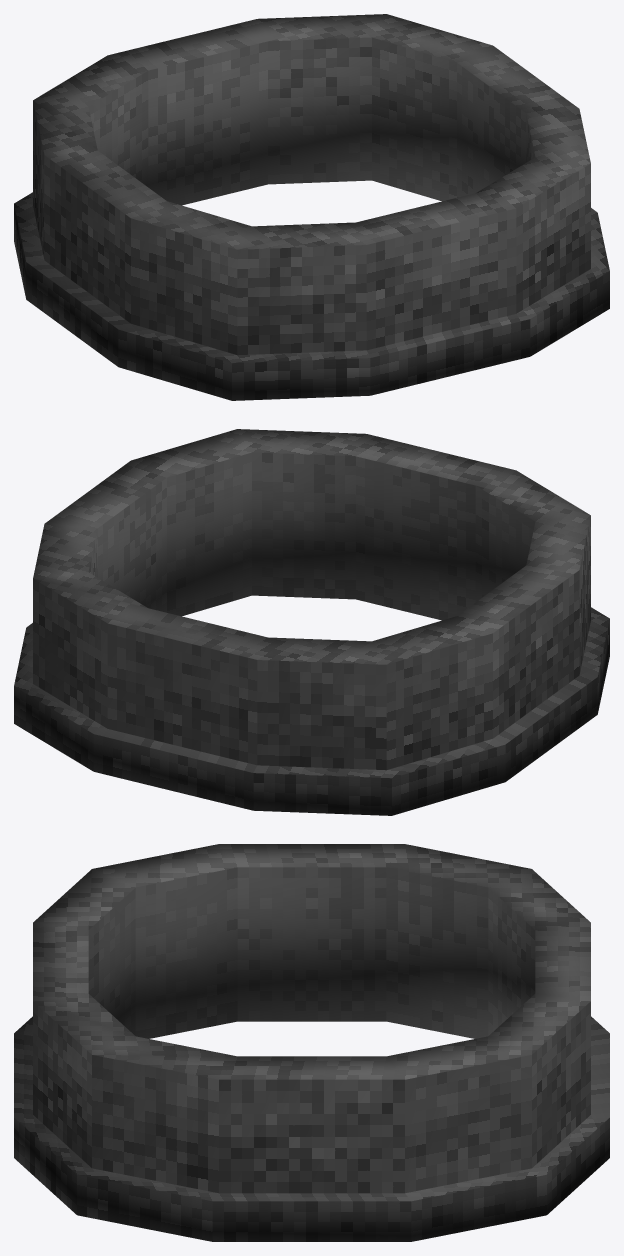
Rendered from Kolodec.glb.
3 views of the same model, one above another, from view 1: azimuth 30°, elevation 25°; view 2: azimuth 150°, elevation 25°; view 3: azimuth 270°, elevation 25° (orthographic). The views are drawn at different scales.
Visible parts, largest first — view 1: Cube; view 2: Cube; view 3: Cube.
Part boxes in pixels (box(x1,y1,x2,y2)): Cube: box(14, 14, 609, 400); Cube: box(14, 429, 609, 815); Cube: box(14, 844, 609, 1241).
Size of the model in its own units: 6.91 by 1.97 by 6.91.
Materials: 1 (1 with a texture image).
